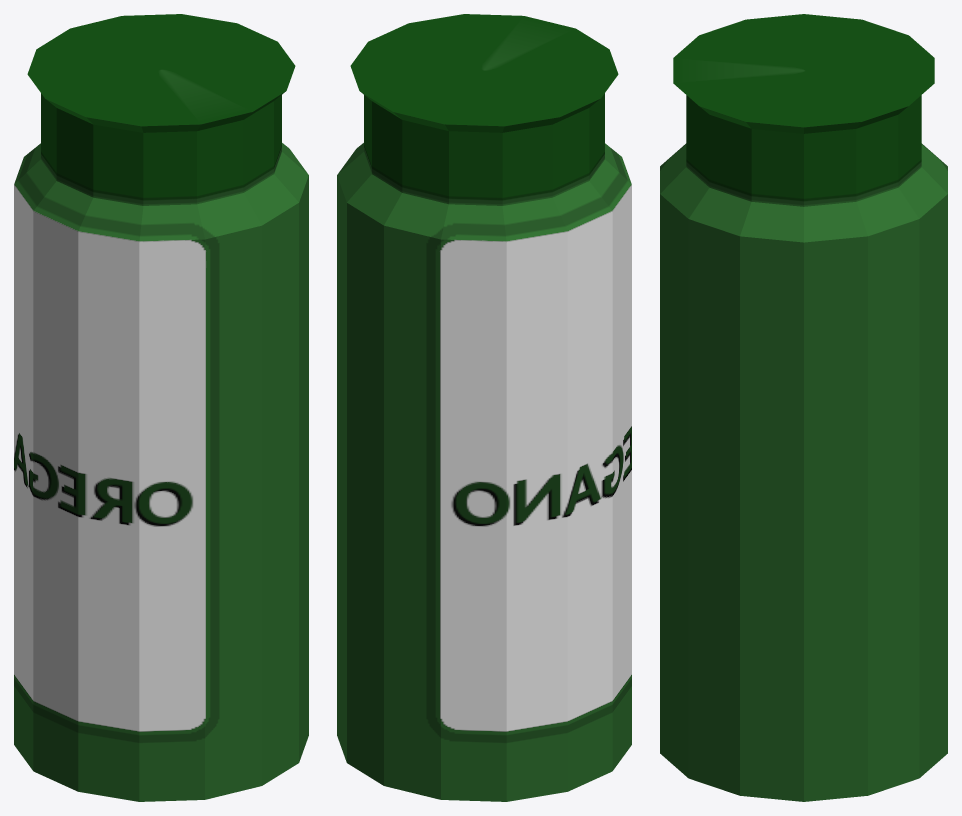
The model's file is spice_oregano.obj.
3 renders of one model, left to right at view 1: azimuth 30°, elevation 25°; view 2: azimuth 150°, elevation 25°; view 3: azimuth 270°, elevation 25°, orthographic.
Visible parts, largest first — view 1: spice_oregano; view 2: spice_oregano; view 3: spice_oregano.
Part boxes in pixels (box(x1,y1,x2,y2)): spice_oregano: box(14, 14, 308, 801); spice_oregano: box(337, 14, 631, 801); spice_oregano: box(660, 14, 947, 801).
Size of the model in its own units: 0.044 by 0.11 by 0.0429.
1 material, 1 textured.
